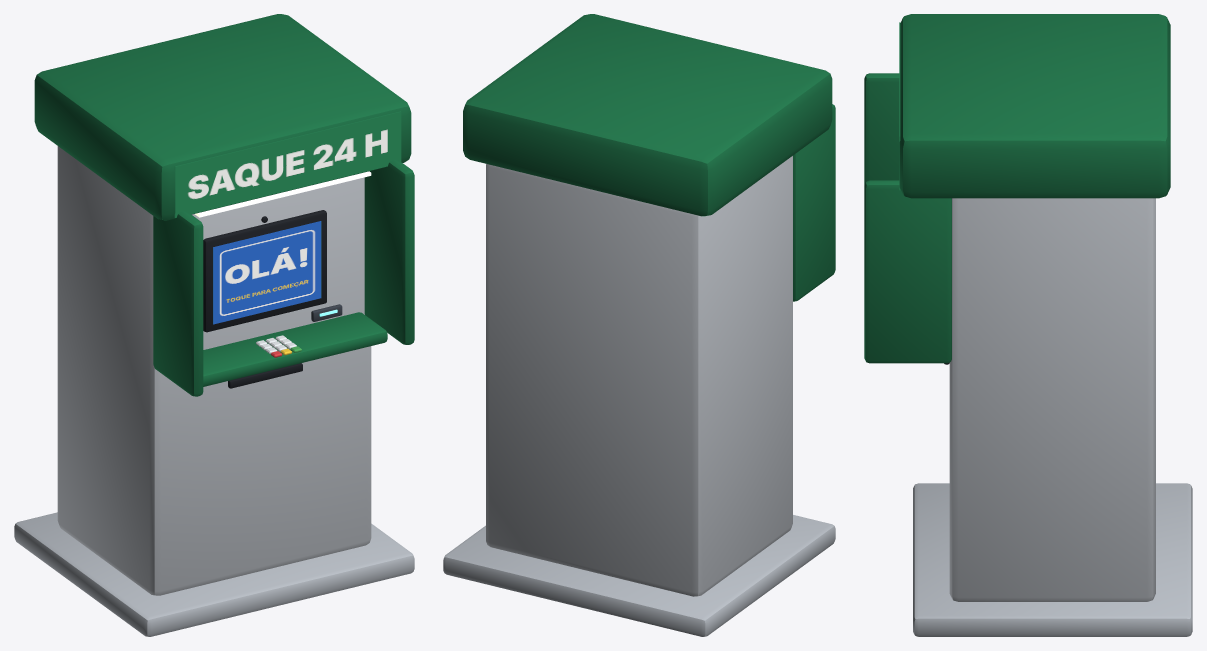
Rendered from caixa_eletronico_rua.glb.
The picture shows the model from 3 angles, left to right: view 1: azimuth 30°, elevation 25°; view 2: azimuth 150°, elevation 25°; view 3: azimuth 270°, elevation 25°; orthographic projection. The views are drawn at different scales.
Visible parts, largest first — view 1: caixa_eletronico_rua, tela_troca; view 2: caixa_eletronico_rua; view 3: caixa_eletronico_rua.
Part boxes in pixels (bbox=[...]): caixa_eletronico_rua: bbox=[14, 14, 414, 636]; tela_troca: bbox=[213, 221, 321, 324]; caixa_eletronico_rua: bbox=[443, 14, 835, 636]; caixa_eletronico_rua: bbox=[864, 14, 1192, 636].
Bounding box in the file's own units: 1.1 × 1.86 × 1.11.
Materials: 5 (3 with a texture image).
